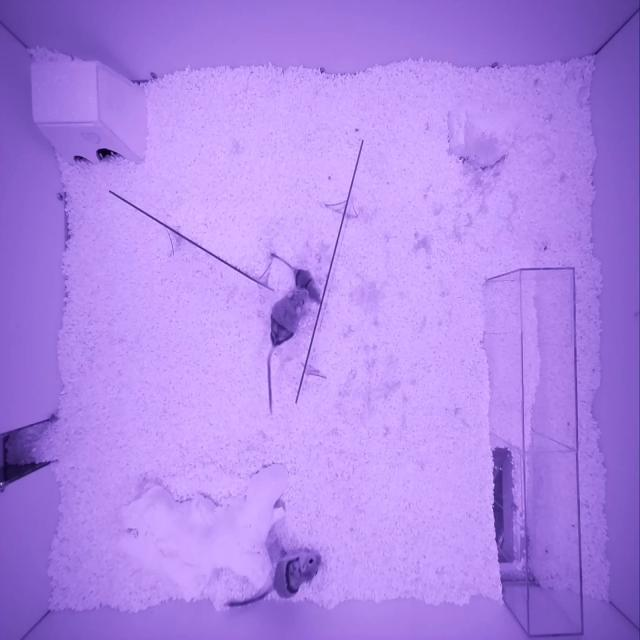adult_back: (270, 288, 308, 346)
adult_front: (274, 551, 322, 599)
pup_h_stripe: (293, 268, 321, 303)
